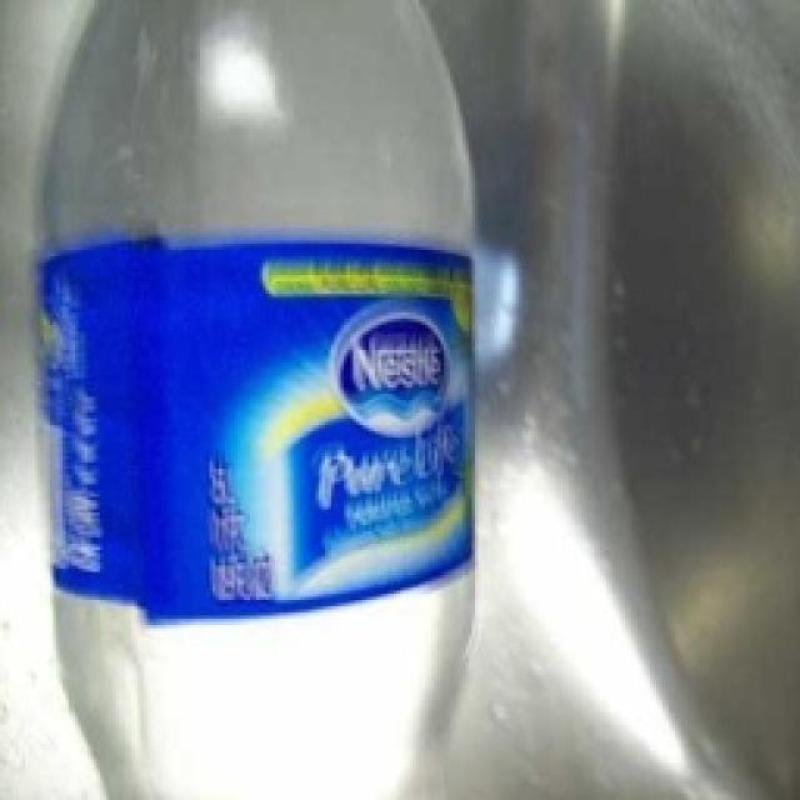botella: (31, 0, 481, 800)
